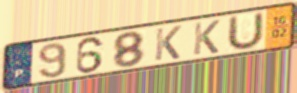6: (74, 35, 106, 75)
8: (111, 30, 147, 69)
9: (36, 41, 69, 79)
K: (191, 18, 222, 57), (153, 24, 184, 63)
U: (225, 10, 265, 53)
